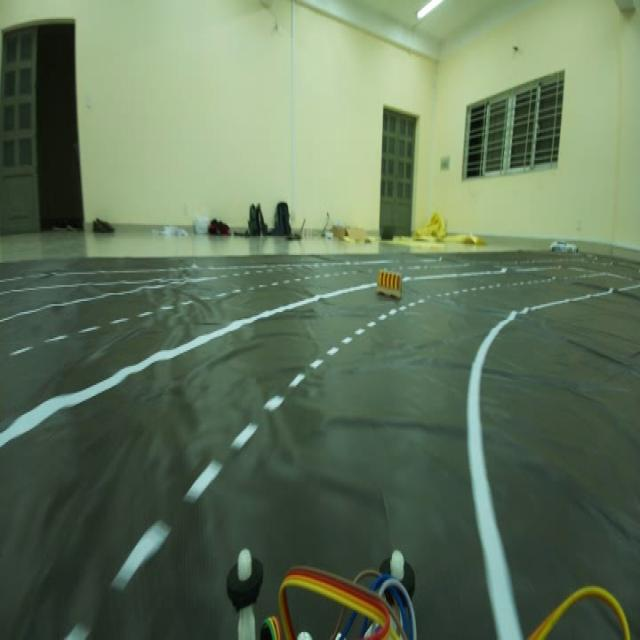roadblock: (375, 260, 402, 306)
